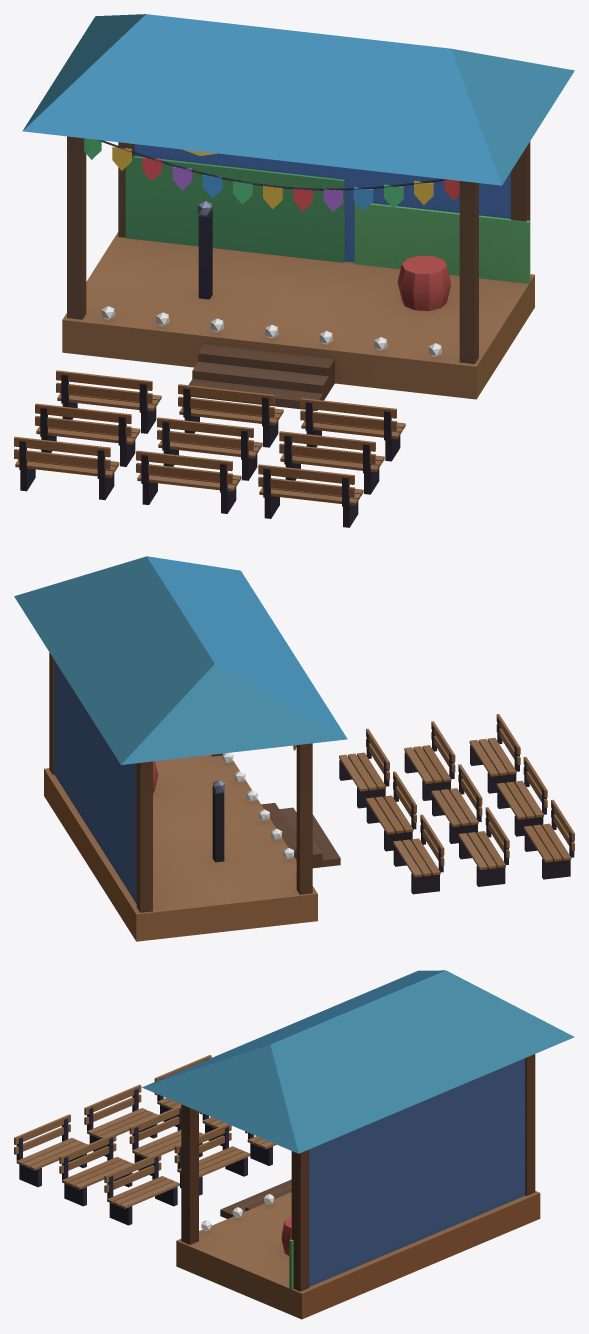
Rendered from hub_stage.fbx.
The picture shows the model from 3 angles, top to bottom: view 1: azimuth 30°, elevation 25°; view 2: azimuth 150°, elevation 25°; view 3: azimuth 270°, elevation 25°; orthographic projection. The views are drawn at different scales.
Visible parts, largest first — view 1: hub_stage_body, hub_stage_body_glow; view 2: hub_stage_body, hub_stage_body_glow; view 3: hub_stage_body.
Part boxes in pixels (<box>): hub_stage_body: <box>14,14,574,527</box>; hub_stage_body_glow: <box>101,306,441,356</box>; hub_stage_body: <box>14,556,574,941</box>; hub_stage_body_glow: <box>222,752,296,875</box>; hub_stage_body: <box>14,970,574,1319</box>.
Bounding box in the file's own units: 3159 × 1460 × 3159.
Materials: 2 (1 with a texture image).
